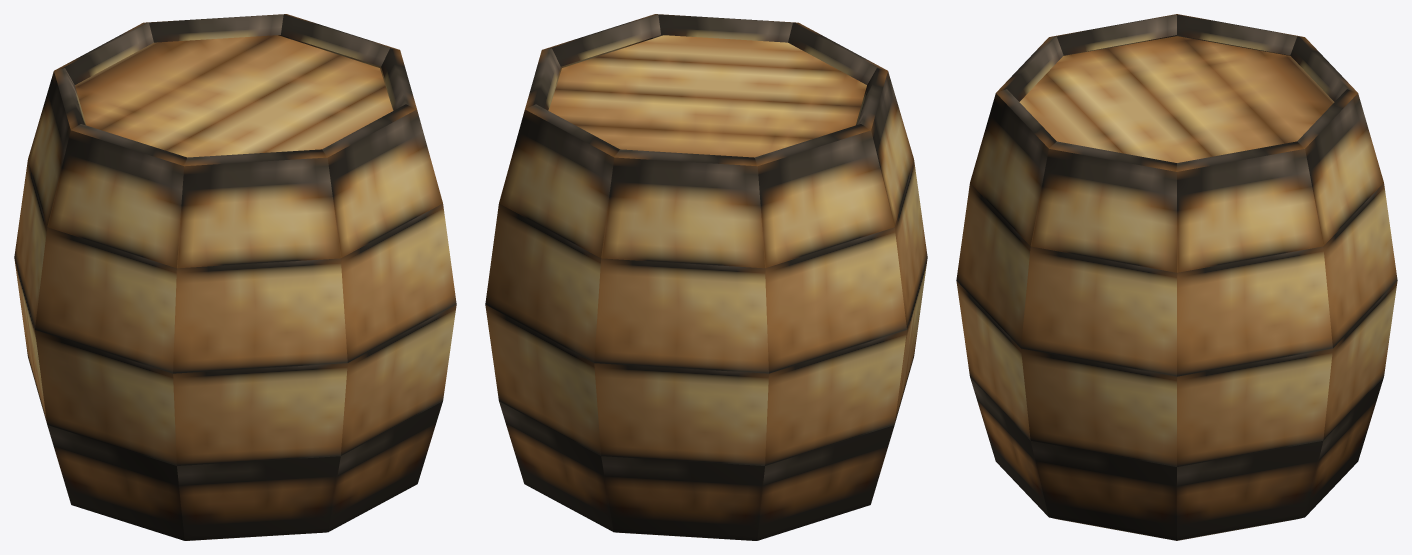
Rendered from Inside_Poly_Barrel_01.obj.
3 renders of one model, left to right at view 1: azimuth 30°, elevation 25°; view 2: azimuth 150°, elevation 25°; view 3: azimuth 270°, elevation 25°, orthographic.
Parts seen in each view (by area): view 1: Sphere_Sphere.003, Sphere_Sphere.005; view 2: Sphere_Sphere.003, Sphere_Sphere.005; view 3: Sphere_Sphere.003, Sphere_Sphere.005.
Boxes of the visible parts, x1,y1,x2,y2 form: Sphere_Sphere.003: [14, 14, 456, 540]; Sphere_Sphere.005: [75, 35, 393, 157]; Sphere_Sphere.003: [485, 14, 927, 540]; Sphere_Sphere.005: [548, 35, 866, 157]; Sphere_Sphere.003: [956, 14, 1397, 540]; Sphere_Sphere.005: [1019, 36, 1334, 162].
Size of the model in its own units: 0.6851 by 0.626 by 0.6641.
Materials: 1 (1 with a texture image).
